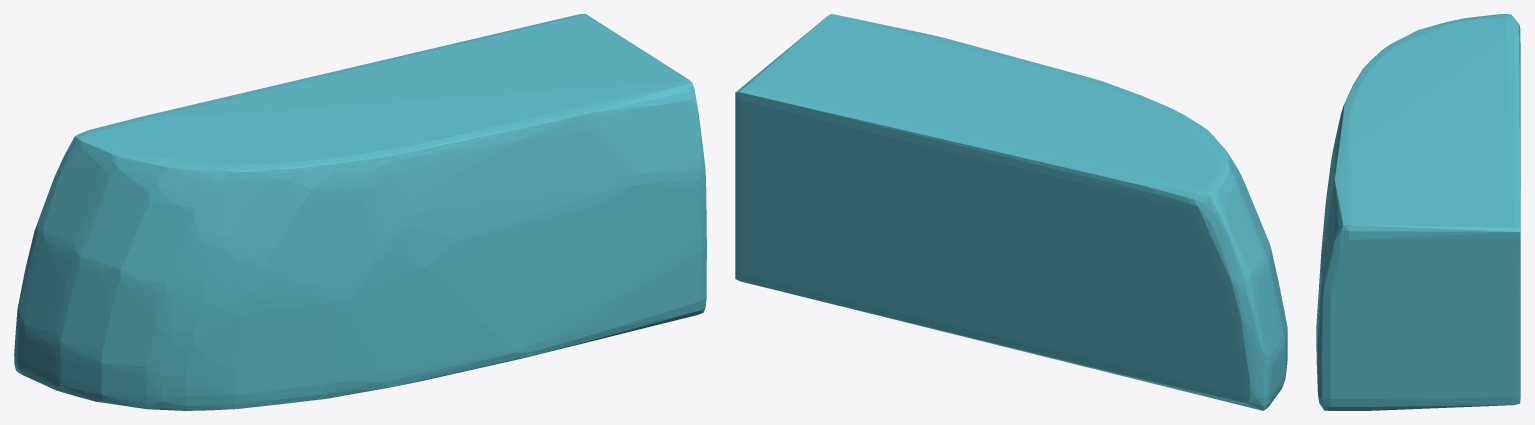
The model's file is left-elbow-0_part_2.obj.
3 renders of one model, left to right at view 1: azimuth 30°, elevation 25°; view 2: azimuth 150°, elevation 25°; view 3: azimuth 270°, elevation 25°, orthographic. The views are drawn at different scales.
Size of the model in its own units: 0.0554 by 0.0204 by 0.0201.
